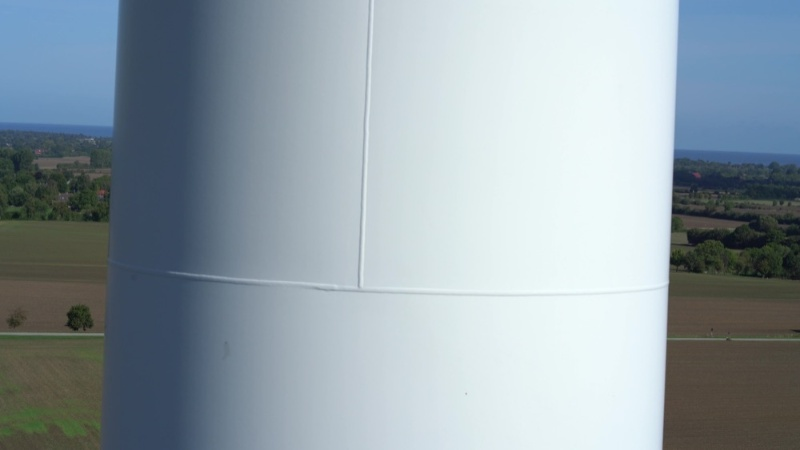weldseam: (104, 252, 673, 303), (352, 1, 378, 296)
